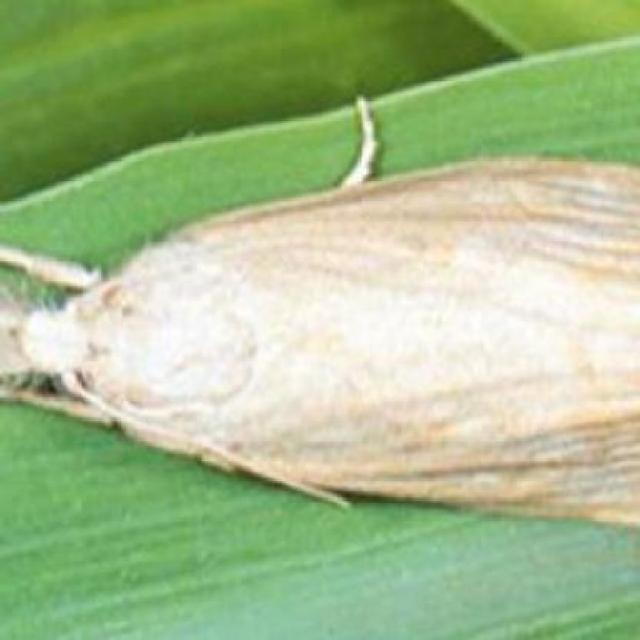stem-borer: (3, 95, 640, 537)
